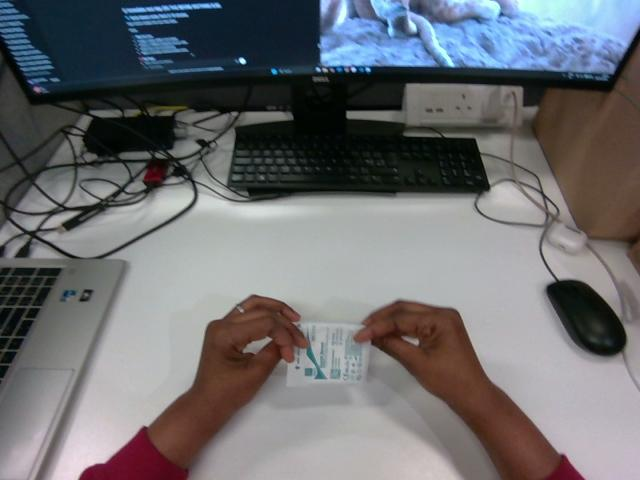gauze: (286, 322, 369, 385)
